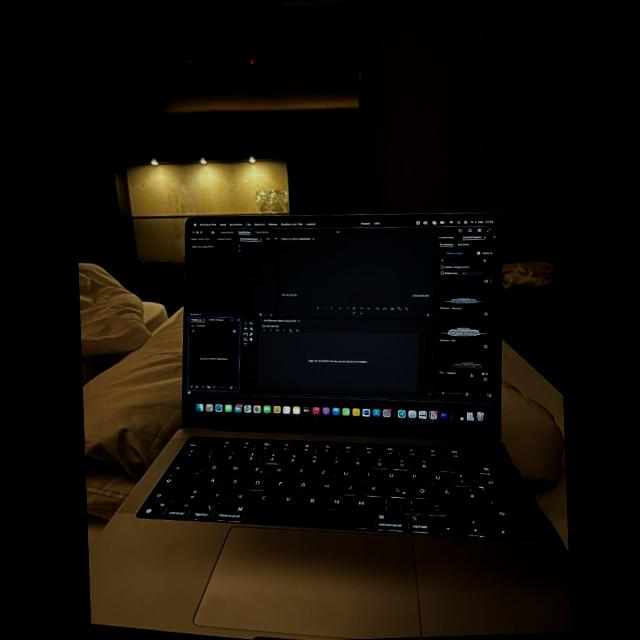laptop: (114, 205, 540, 640)
